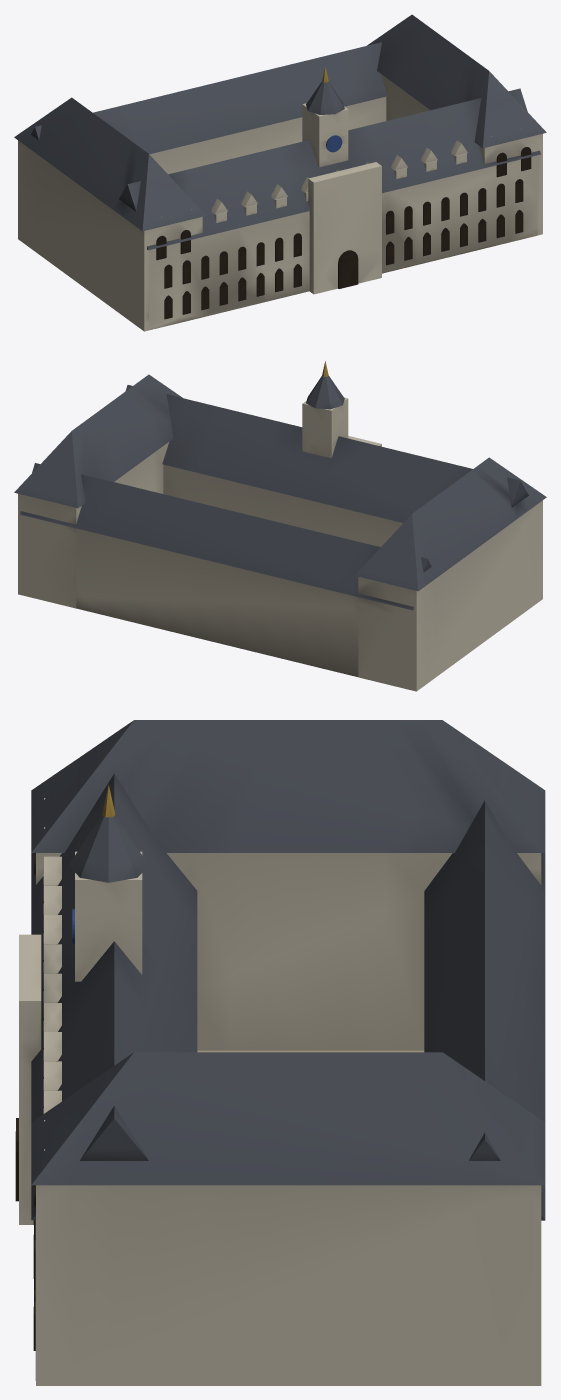
Rendered from hotel-de-ville.glb.
The picture shows the model from 3 angles, top to bottom: view 1: azimuth 30°, elevation 25°; view 2: azimuth 150°, elevation 25°; view 3: azimuth 270°, elevation 25°; orthographic projection. The views are drawn at different scales.
Parts seen in each view (by area): view 1: p1_roofs, p0_walls, p2_belfry; view 2: p1_roofs, p0_walls, p2_belfry; view 3: p1_roofs, p2_belfry, p0_walls.
Boxes of the visible parts, <box> form: p1_roofs: <box>14,14,546,331</box>; p0_walls: <box>149,96,537,330</box>; p2_belfry: <box>302,67,381,294</box>; p1_roofs: <box>14,374,546,691</box>; p0_walls: <box>76,464,402,676</box>; p2_belfry: <box>302,361,381,458</box>; p1_roofs: <box>31,720,545,1385</box>; p2_belfry: <box>15,785,148,1224</box>; p0_walls: <box>33,1050,424,1380</box>.
Bounding box in the file's own units: 83.2 × 40.03 × 47.2.
